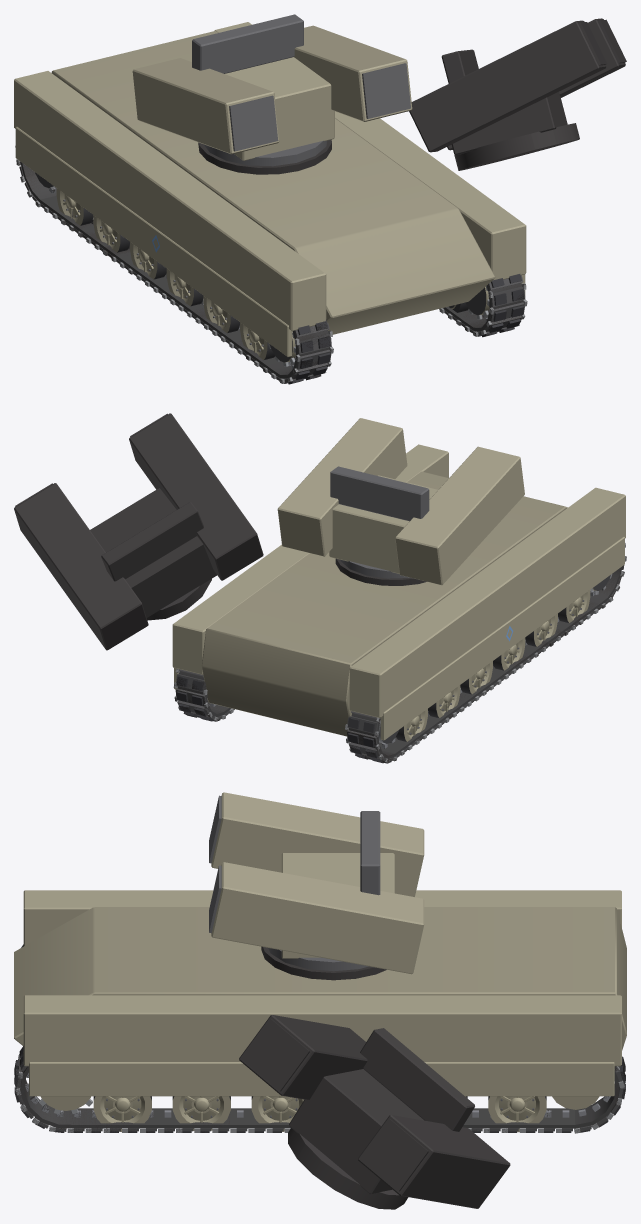
File: shortRangeSAM__hisar_a.glb
The picture shows the model from 3 angles, top to bottom: view 1: azimuth 30°, elevation 25°; view 2: azimuth 150°, elevation 25°; view 3: azimuth 270°, elevation 25°; orthographic projection. The views are drawn at different scales.
Visible parts, largest first — view 1: Hull_Mesh, Wreck, Gun_Mesh, Turret_Mesh, Track_L_Mesh, Track_R_Mesh, Wheel_L1_Mesh, Wheel_L3_Mesh, Wheel_L0_Mesh, Wheel_L2_Mesh, Wheel_L4_Mesh, Wheel_L5_Mesh; view 2: Hull_Mesh, Wreck, Gun_Mesh, Turret_Mesh, Track_L_Mesh, Track_R_Mesh, Wheel_L5_Mesh, Wheel_L1_Mesh, Wheel_L2_Mesh, Wheel_L3_Mesh, Wheel_L4_Mesh, Wheel_L0_Mesh; view 3: Hull_Mesh, Wreck, Gun_Mesh, Track_R_Mesh, Turret_Mesh, Wheel_R0_Mesh, Wheel_R4_Mesh, Wheel_R5_Mesh, Wheel_R3_Mesh, Sprocket_R_Mesh.
Part boxes in pixels (left/top/right/bottom): Hull_Mesh: left=14, top=22, right=526, bottom=356; Wreck: left=16, top=18, right=626, bottom=383; Gun_Mesh: left=132, top=25, right=412, bottom=154; Turret_Mesh: left=192, top=14, right=334, bottom=166; Track_L_Mesh: left=15, top=146, right=333, bottom=384; Track_R_Mesh: left=439, top=274, right=527, bottom=337; Wheel_L1_Mesh: left=93, top=215, right=129, bottom=252; Wheel_L3_Mesh: left=166, top=269, right=203, bottom=306; Wheel_L0_Mesh: left=56, top=188, right=93, bottom=225; Wheel_L2_Mesh: left=130, top=242, right=166, bottom=279; Wheel_L4_Mesh: left=203, top=295, right=239, bottom=333; Wheel_L5_Mesh: left=240, top=322, right=274, bottom=359; Hull_Mesh: left=172, top=444, right=625, bottom=740; Wreck: left=14, top=413, right=626, bottom=763; Gun_Mesh: left=277, top=418, right=524, bottom=585; Turret_Mesh: left=329, top=466, right=437, bottom=578; Track_L_Mesh: left=345, top=543, right=626, bottom=763; Track_R_Mesh: left=174, top=668, right=234, bottom=721; Wheel_L5_Mesh: left=558, top=590, right=590, bottom=623; Wheel_L1_Mesh: left=428, top=685, right=460, bottom=718; Wheel_L2_Mesh: left=460, top=661, right=492, bottom=694; Wheel_L3_Mesh: left=493, top=637, right=525, bottom=670; Wheel_L4_Mesh: left=525, top=613, right=557, bottom=646; Wheel_L0_Mesh: left=395, top=709, right=427, bottom=741; Hull_Mesh: left=14, top=890, right=626, bottom=1096; Wreck: left=14, top=946, right=625, bottom=1209; Gun_Mesh: left=209, top=792, right=424, bottom=974; Track_R_Mesh: left=14, top=1046, right=625, bottom=1133; Turret_Mesh: left=268, top=811, right=394, bottom=971; Wheel_R0_Mesh: left=488, top=1096, right=546, bottom=1132; Wheel_R4_Mesh: left=172, top=1096, right=230, bottom=1130; Wheel_R5_Mesh: left=93, top=1096, right=151, bottom=1131; Wheel_R3_Mesh: left=251, top=1096, right=303, bottom=1131; Sprocket_R_Mesh: left=38, top=1096, right=92, bottom=1114.
Size of what is drawn, in the model's own units: 7.08 by 2.92 by 6.83.
